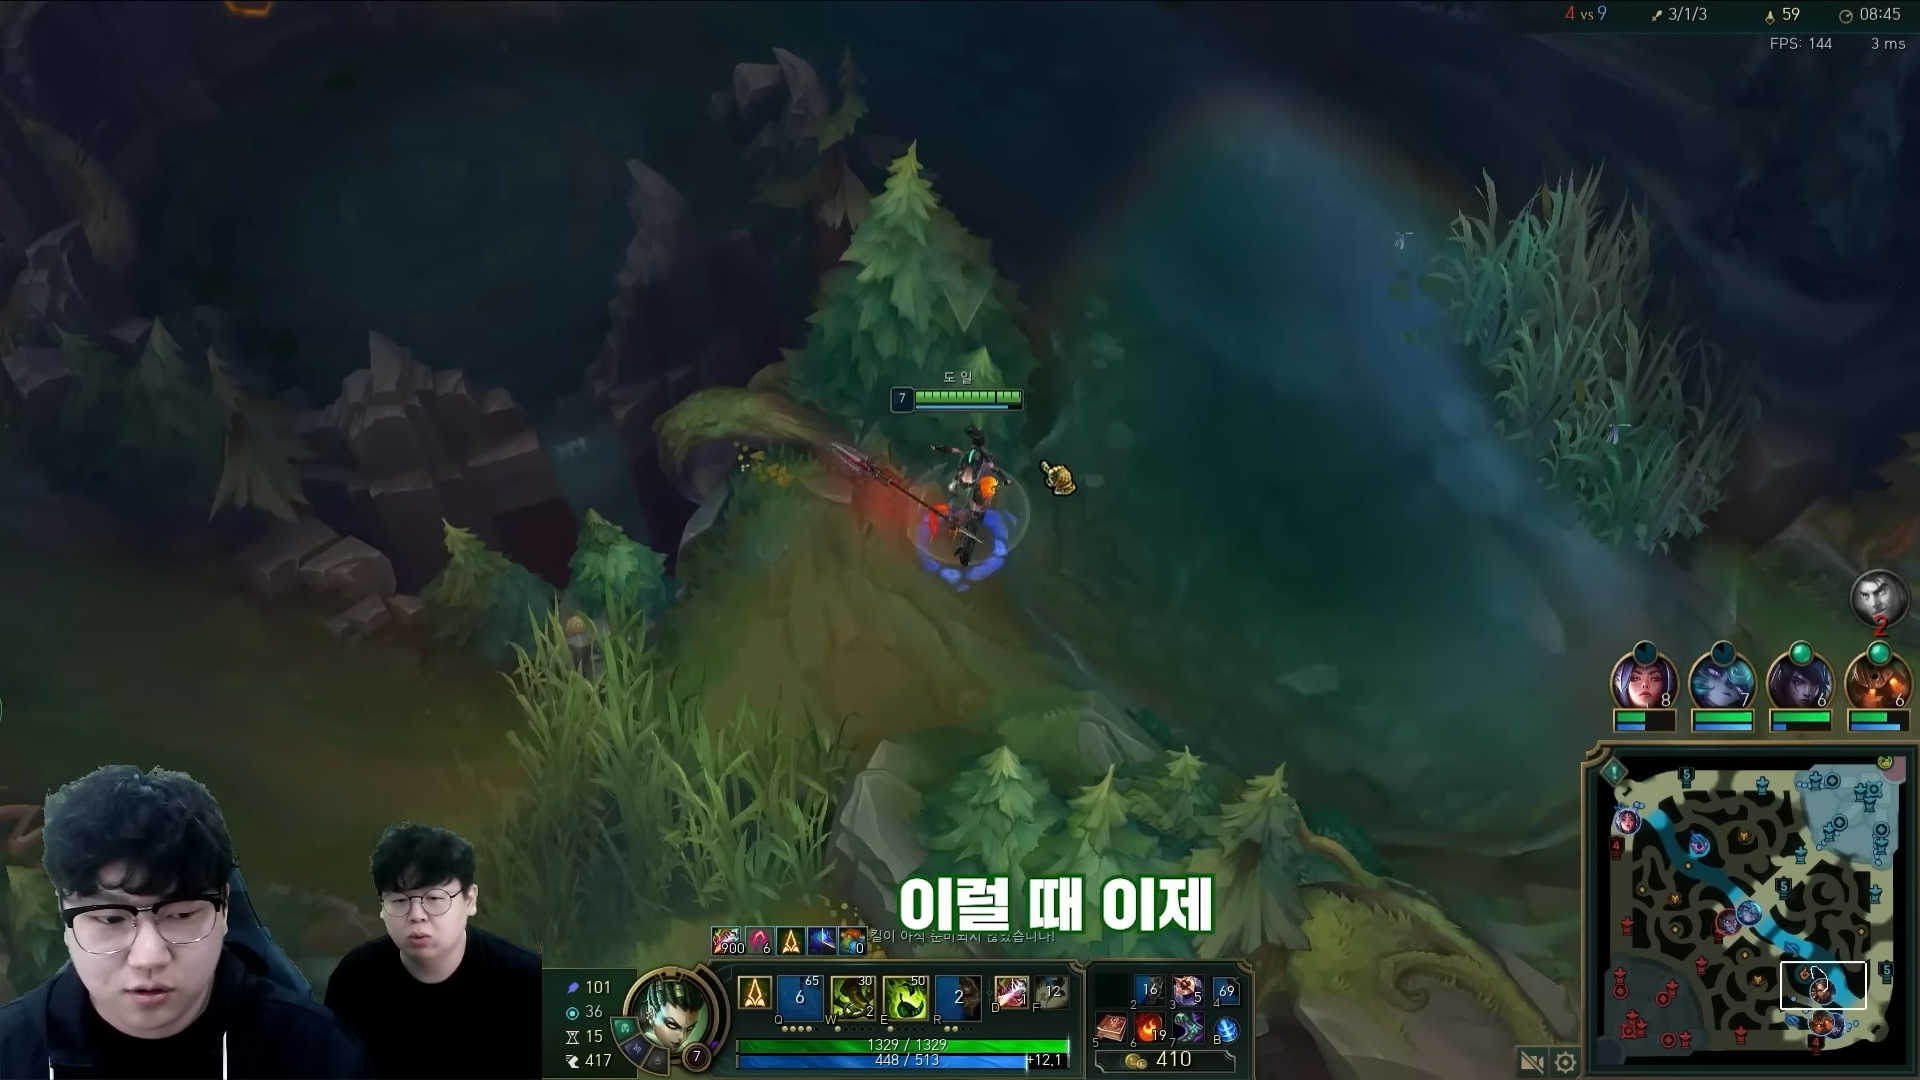Enemy: (811, 431, 1000, 571)
Nidalee: (882, 369, 1034, 430)
